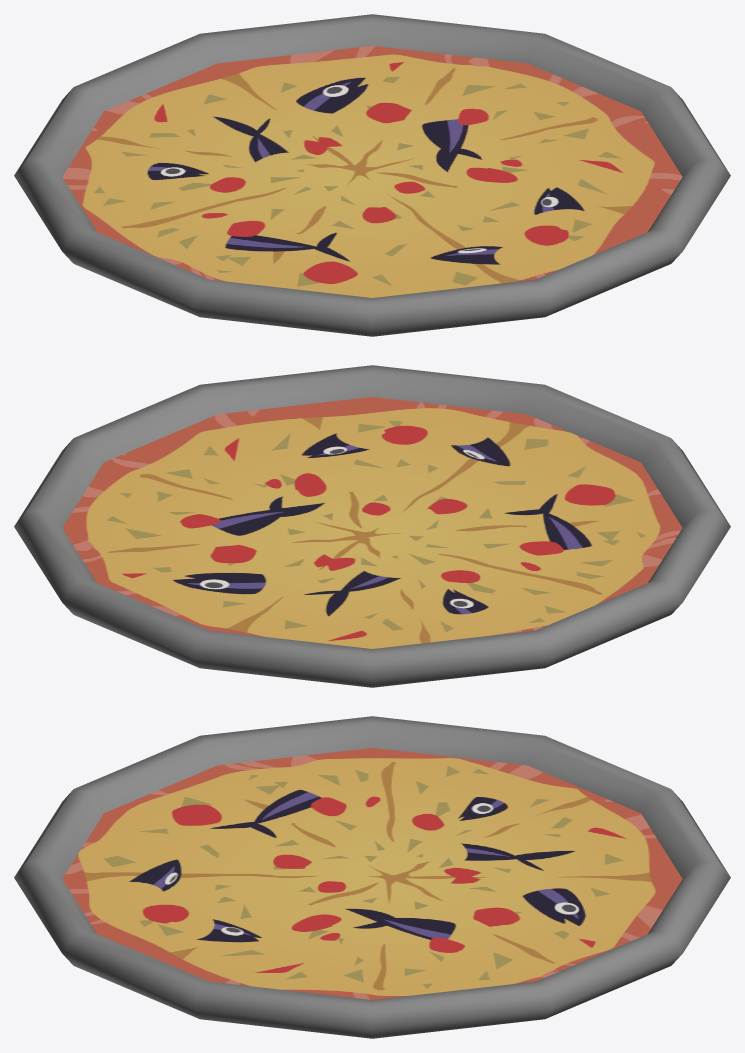
Rendered from Pizza.fbx.
The picture shows the model from 3 angles, top to bottom: view 1: azimuth 30°, elevation 25°; view 2: azimuth 150°, elevation 25°; view 3: azimuth 270°, elevation 25°; orthographic projection.
Parts seen in each view (by area): view 1: Pizza; view 2: Pizza; view 3: Pizza.
Part boxes in pixels (x1,y1,x2,y2): Pizza: [14, 14, 730, 336]; Pizza: [14, 365, 730, 687]; Pizza: [14, 716, 730, 1038].
Size of the model in its own units: 59.16 by 2.81 by 59.16.
